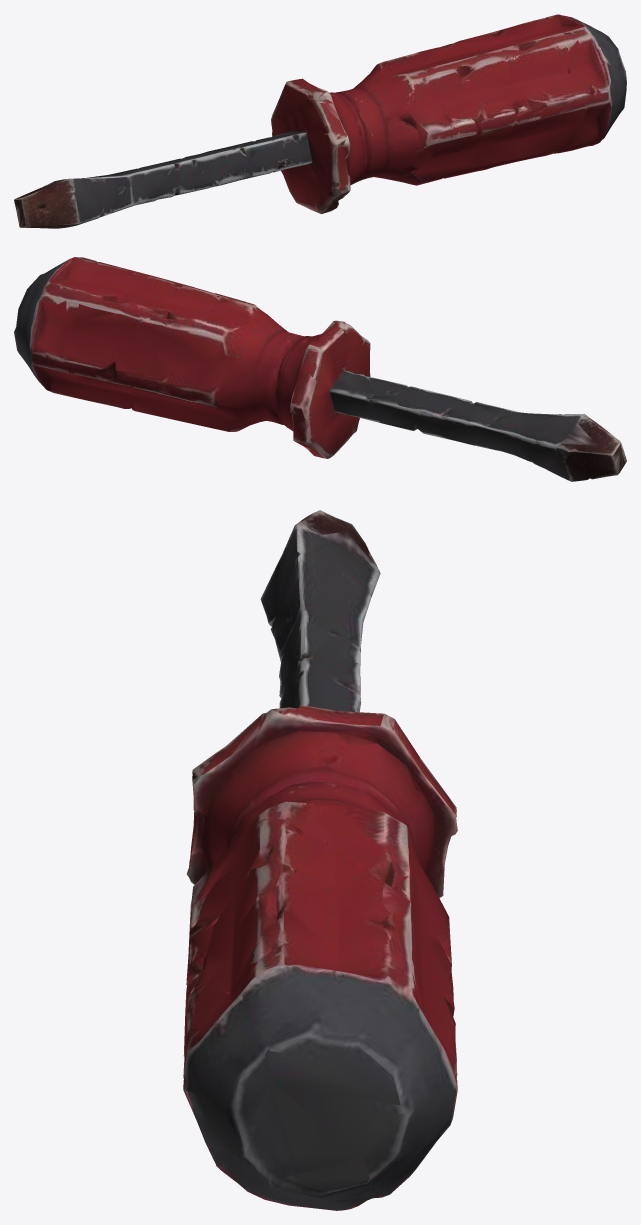
Rendered from tool_screwdriver_krestovaya_idle.glb.
3 views of the same model, one above another, from view 1: azimuth 30°, elevation 25°; view 2: azimuth 150°, elevation 25°; view 3: azimuth 270°, elevation 25° (orthographic). The views are drawn at different scales.
Parts seen in each view (by area): view 1: tripo_node_3771985a-8e08-48e5-a415-c6b3e8e0ccf8; view 2: tripo_node_3771985a-8e08-48e5-a415-c6b3e8e0ccf8; view 3: tripo_node_3771985a-8e08-48e5-a415-c6b3e8e0ccf8.
Boxes of the visible parts, bbox=[...] form: tripo_node_3771985a-8e08-48e5-a415-c6b3e8e0ccf8: bbox=[14, 14, 626, 228]; tripo_node_3771985a-8e08-48e5-a415-c6b3e8e0ccf8: bbox=[14, 257, 626, 481]; tripo_node_3771985a-8e08-48e5-a415-c6b3e8e0ccf8: bbox=[183, 510, 457, 1210].
Bounding box in the file's own units: 0.2 × 0.0403 × 0.0407.
Materials: 1 (1 with a texture image).
